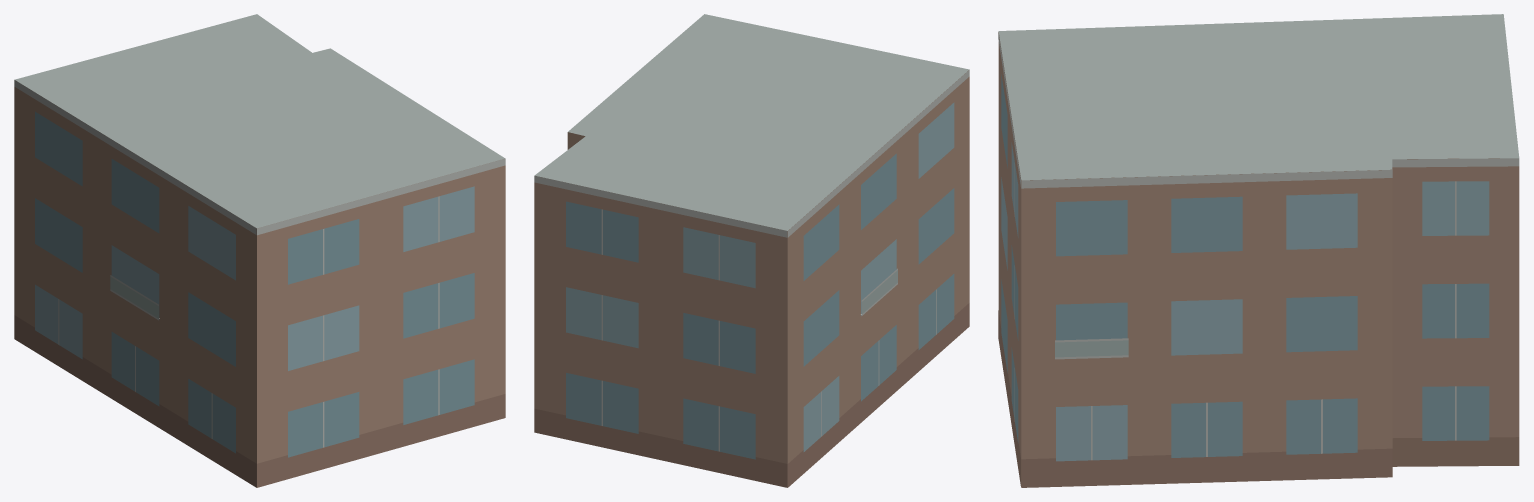
Rendered from survey-upis-33042362.glb.
The picture shows the model from 3 angles, left to right: view 1: azimuth 30°, elevation 25°; view 2: azimuth 150°, elevation 25°; view 3: azimuth 270°, elevation 25°; orthographic projection. The views are drawn at different scales.
Parts seen in each view (by area): view 1: survey-upis-33042362.tmp; view 2: survey-upis-33042362.tmp; view 3: survey-upis-33042362.tmp.
Boxes of the visible parts, x1=… form: survey-upis-33042362.tmp: x1=14, y1=14, x2=505, y2=487; survey-upis-33042362.tmp: x1=534, y1=14, x2=969, y2=487; survey-upis-33042362.tmp: x1=998, y1=14, x2=1519, y2=487.
Size of the model in its own units: 10.63 by 9.15 by 14.06.
